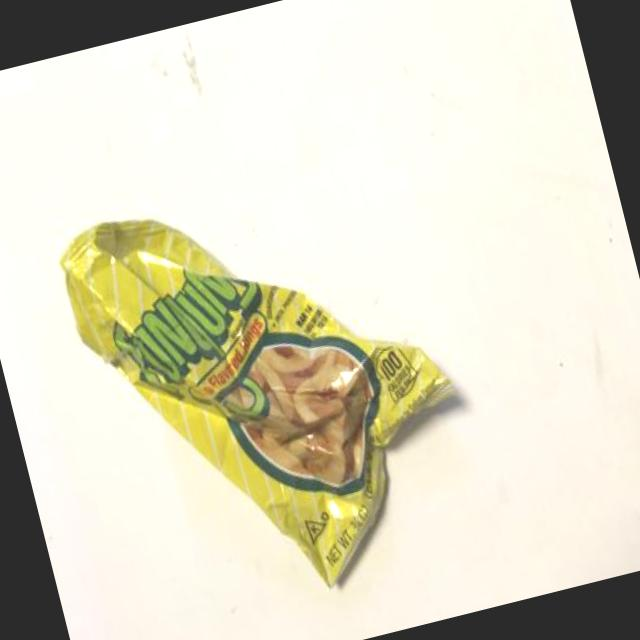Trash: (51, 146, 498, 634)
